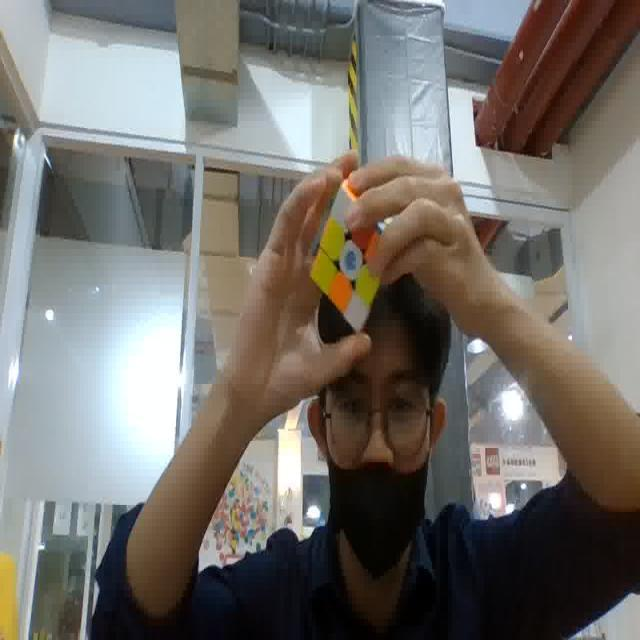Rub: (304, 180, 398, 330)
